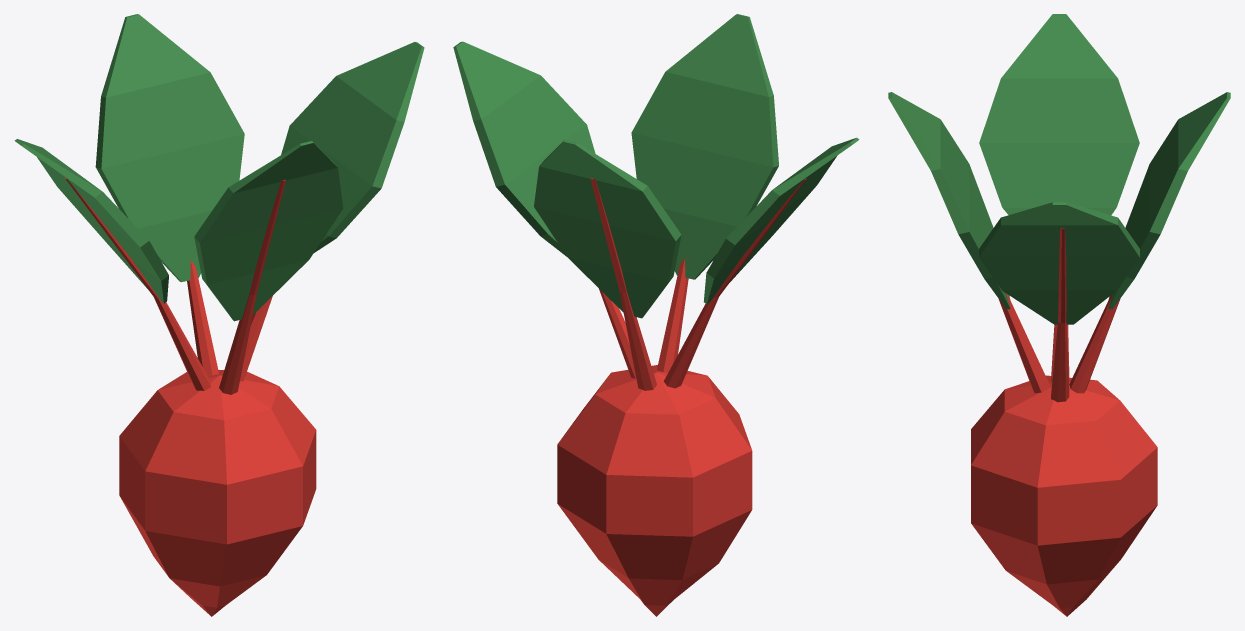
Rendered from BEET.fbx.
The picture shows the model from 3 angles, left to right: view 1: azimuth 30°, elevation 25°; view 2: azimuth 150°, elevation 25°; view 3: azimuth 270°, elevation 25°; orthographic projection. The views are drawn at different scales.
Visible parts, largest first — view 1: BEET; view 2: BEET; view 3: BEET.
Part boxes in pixels (x1,y1,x2,y2): BEET: [14, 14, 424, 616]; BEET: [453, 14, 859, 616]; BEET: [888, 14, 1230, 616].
Bounding box in the file's own units: 43.72 × 55.94 × 33.09.
